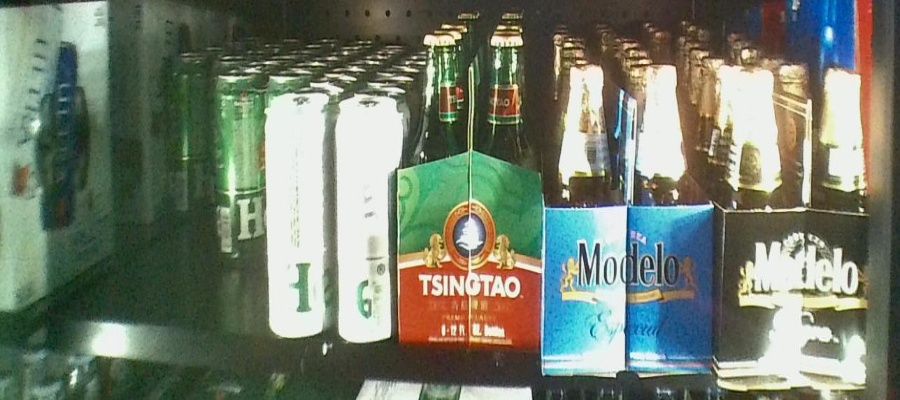bottle: (545, 65, 710, 373), (715, 68, 867, 384), (399, 31, 541, 350), (265, 98, 335, 337), (332, 99, 395, 340), (210, 71, 266, 260), (165, 54, 208, 222)
